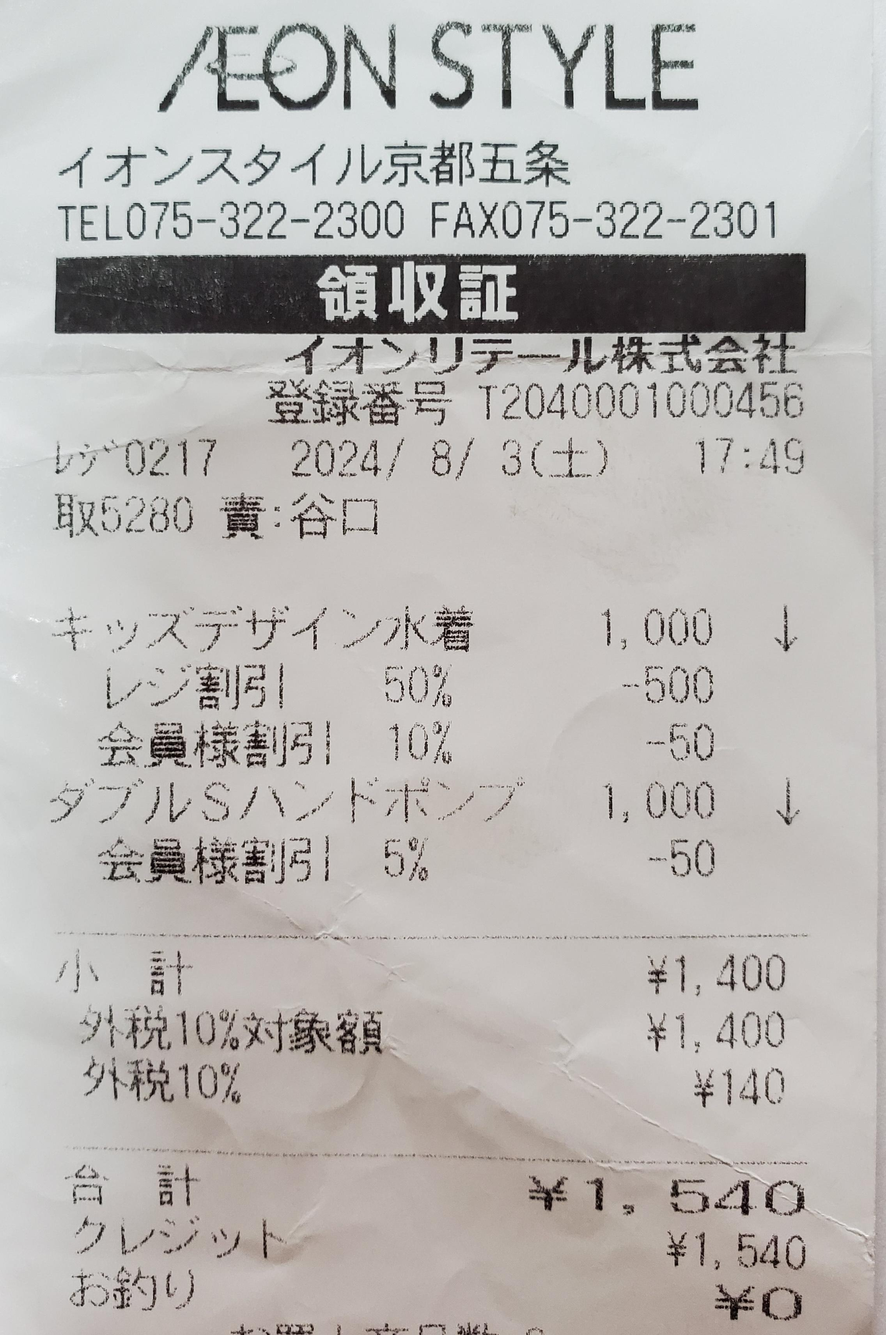TEL: (121, 199, 419, 239)
date: (277, 429, 534, 481)
total: (589, 1168, 817, 1221)
